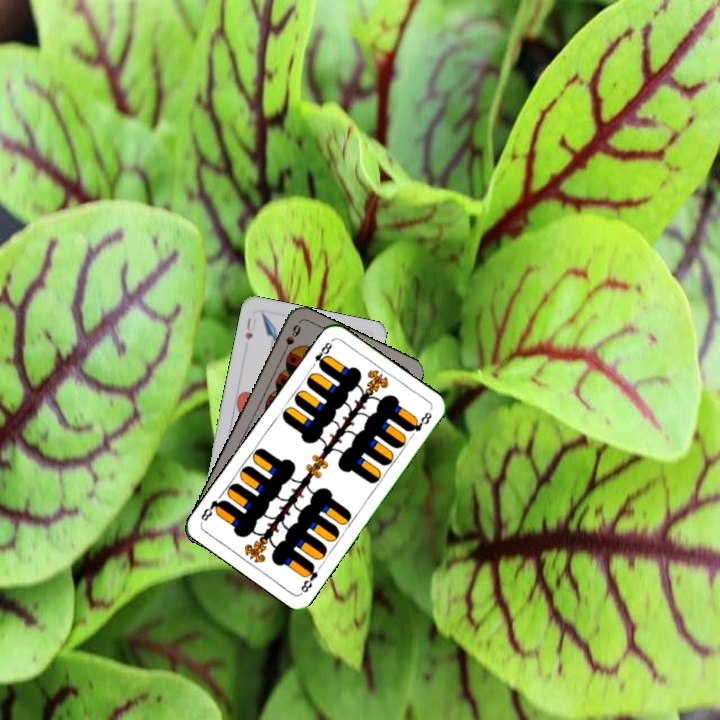E8: (307, 336, 335, 371), (297, 560, 321, 596)
HU: (241, 314, 258, 343)
S9: (278, 320, 303, 358)
